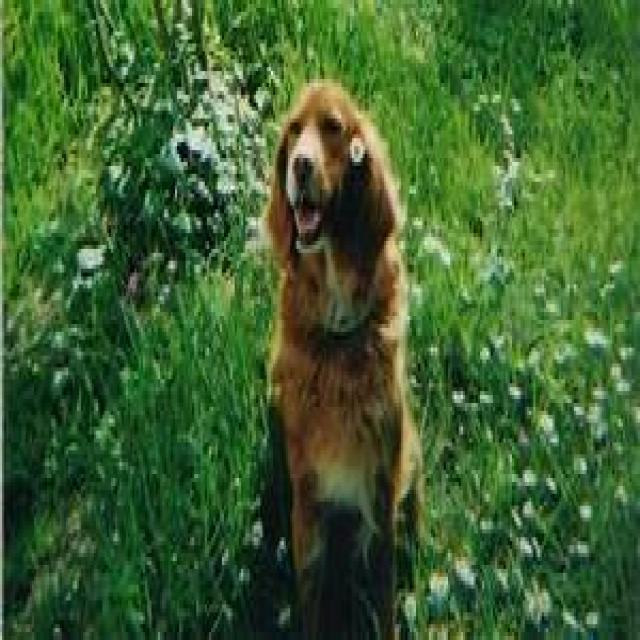dog: (258, 83, 425, 640)
